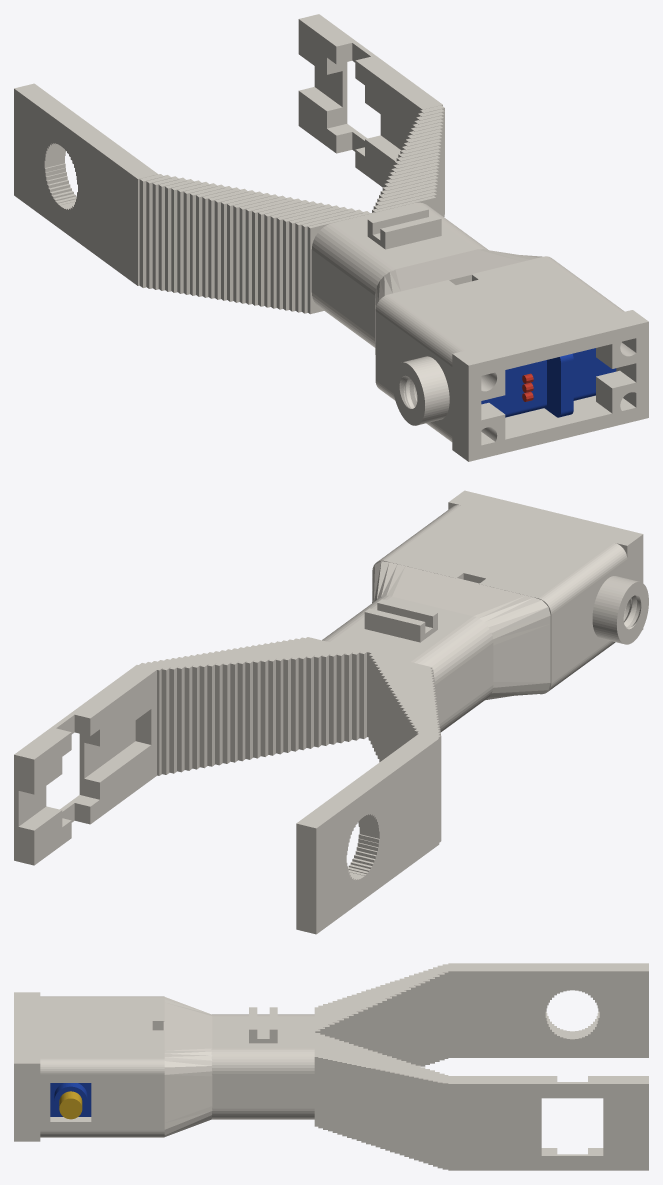
The model's file is plate-3c-arm-fore.glb.
3 views of the same model, one above another, from view 1: azimuth 30°, elevation 25°; view 2: azimuth 150°, elevation 25°; view 3: azimuth 270°, elevation 25° (orthographic). The views are drawn at different scales.
Visible parts, largest first — view 1: arm-fore, sg90-body-head, sg90-tabs-head; view 2: arm-fore; view 3: arm-fore, sg90-spline-head, sg90-boss-head, sg90-body-head.
Part boxes in pixels (x1,y1,x2,y2): arm-fore: (14, 14, 648, 461); sg90-body-head: (481, 348, 616, 417); sg90-tabs-head: (544, 353, 573, 417); arm-fore: (14, 490, 648, 934); arm-fore: (14, 963, 648, 1170); sg90-spline-head: (59, 1091, 82, 1119); sg90-boss-head: (54, 1083, 87, 1113); sg90-body-head: (50, 1083, 91, 1116).
Bounding box in the file's own units: 59.7 × 21.2 × 133.
